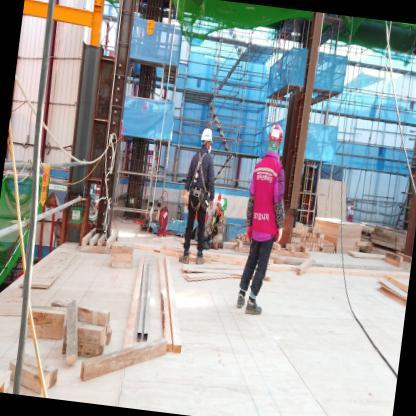safety-shoe: (243, 297, 262, 318), (174, 250, 191, 267), (231, 294, 246, 313), (195, 251, 209, 267)
